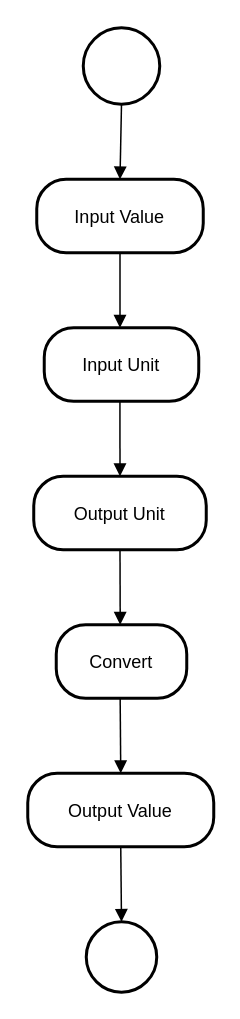
The diagram is 240 pixels wide and 1019 high, and some of its shapes have lost their labels. Here are the shapes that lost their labels. From the top down, the centre of each, then its label:
At (x=120, y=65): "Start".
At (x=121, y=956): "Stop".
